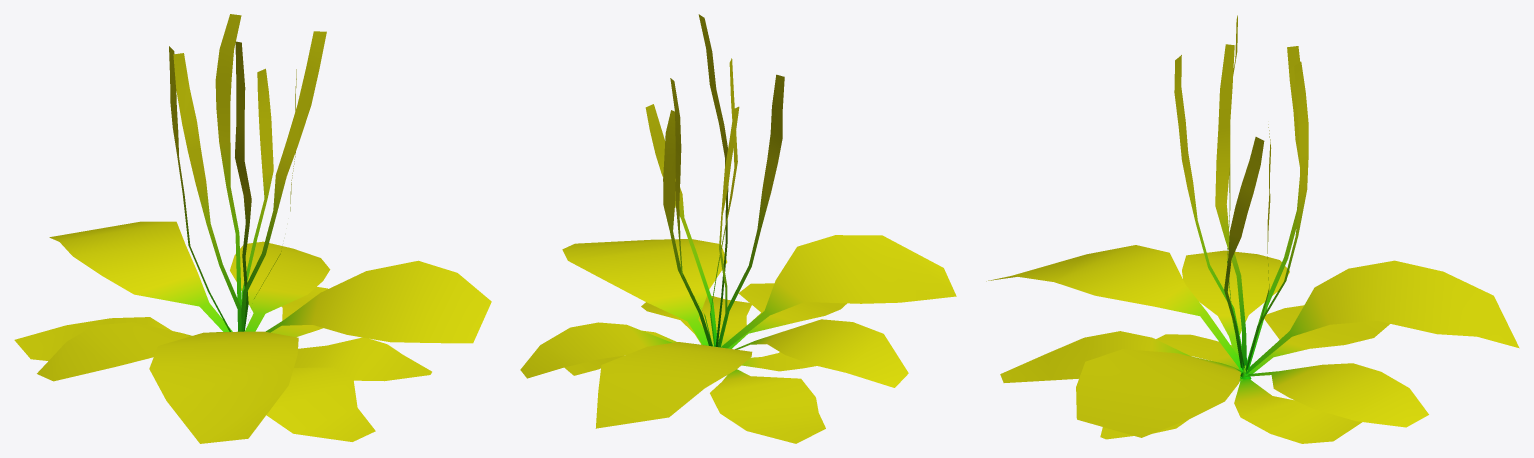
File: Broadleaf Plantain_LOD1_Var1_sfhjc.fbx
3 renders of one model, left to right at view 1: azimuth 30°, elevation 25°; view 2: azimuth 150°, elevation 25°; view 3: azimuth 270°, elevation 25°, orthographic. The views are drawn at different scales.
Parts seen in each view (by area): view 1: _3ccc_Var1_LOD1; view 2: _3ccc_Var1_LOD1; view 3: _3ccc_Var1_LOD1.
Boxes of the visible parts, <box> form: _3ccc_Var1_LOD1: <box>14,14,491,443</box>; _3ccc_Var1_LOD1: <box>520,14,956,443</box>; _3ccc_Var1_LOD1: <box>986,15,1519,443</box>.
Bounding box in the file's own units: 36.41 × 29.31 × 41.02.
